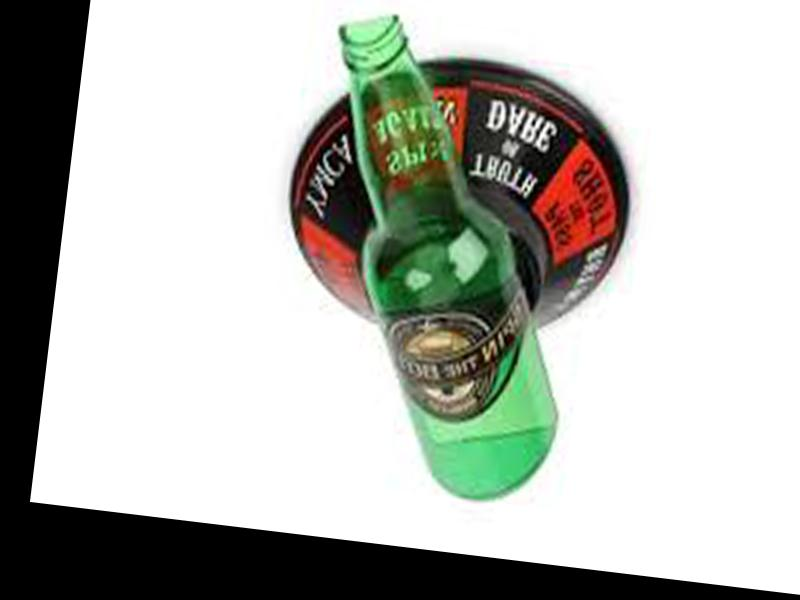Beer: (288, 8, 606, 508)
